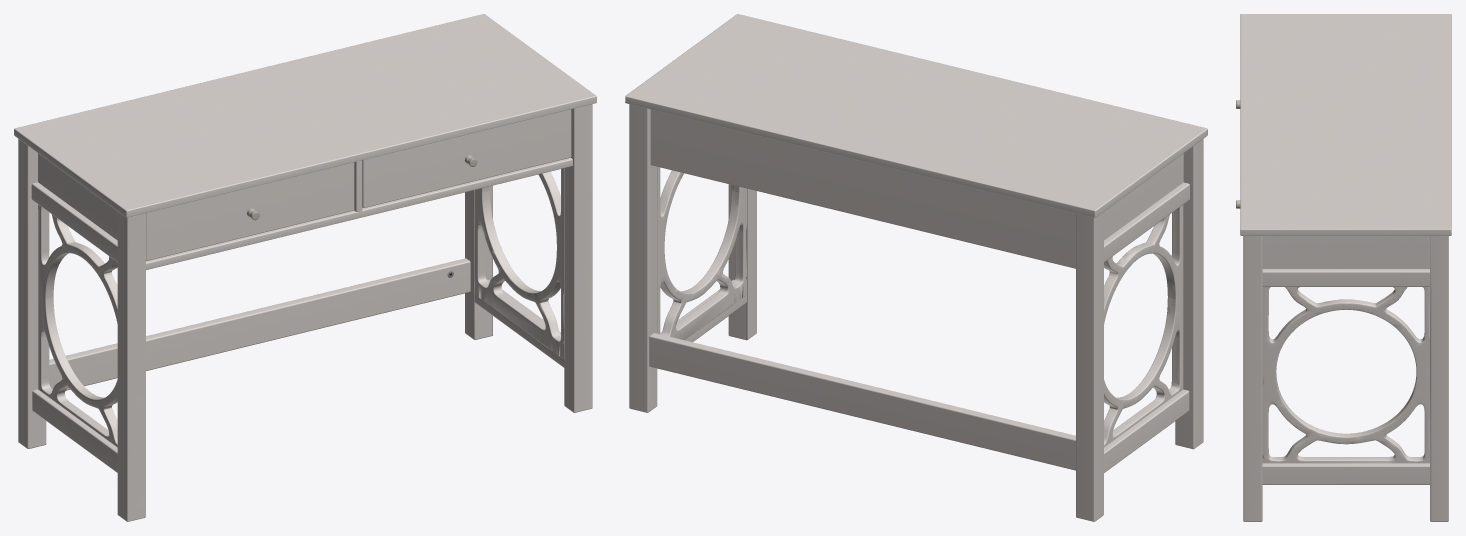
The picture shows the model from 3 angles, left to right: view 1: azimuth 30°, elevation 25°; view 2: azimuth 150°, elevation 25°; view 3: azimuth 270°, elevation 25°; orthographic projection. The views are drawn at different scales.
Visible parts, largest first — view 1: RootNode; view 2: RootNode; view 3: RootNode.
Part boxes in pixels (box(x1,y1,x2,y2)): RootNode: box(14, 14, 596, 521); RootNode: box(625, 14, 1207, 521); RootNode: box(1236, 14, 1451, 521).
Size of the model in its own units: 1.19 by 0.7623 by 0.5037.
1 material, 1 textured.
